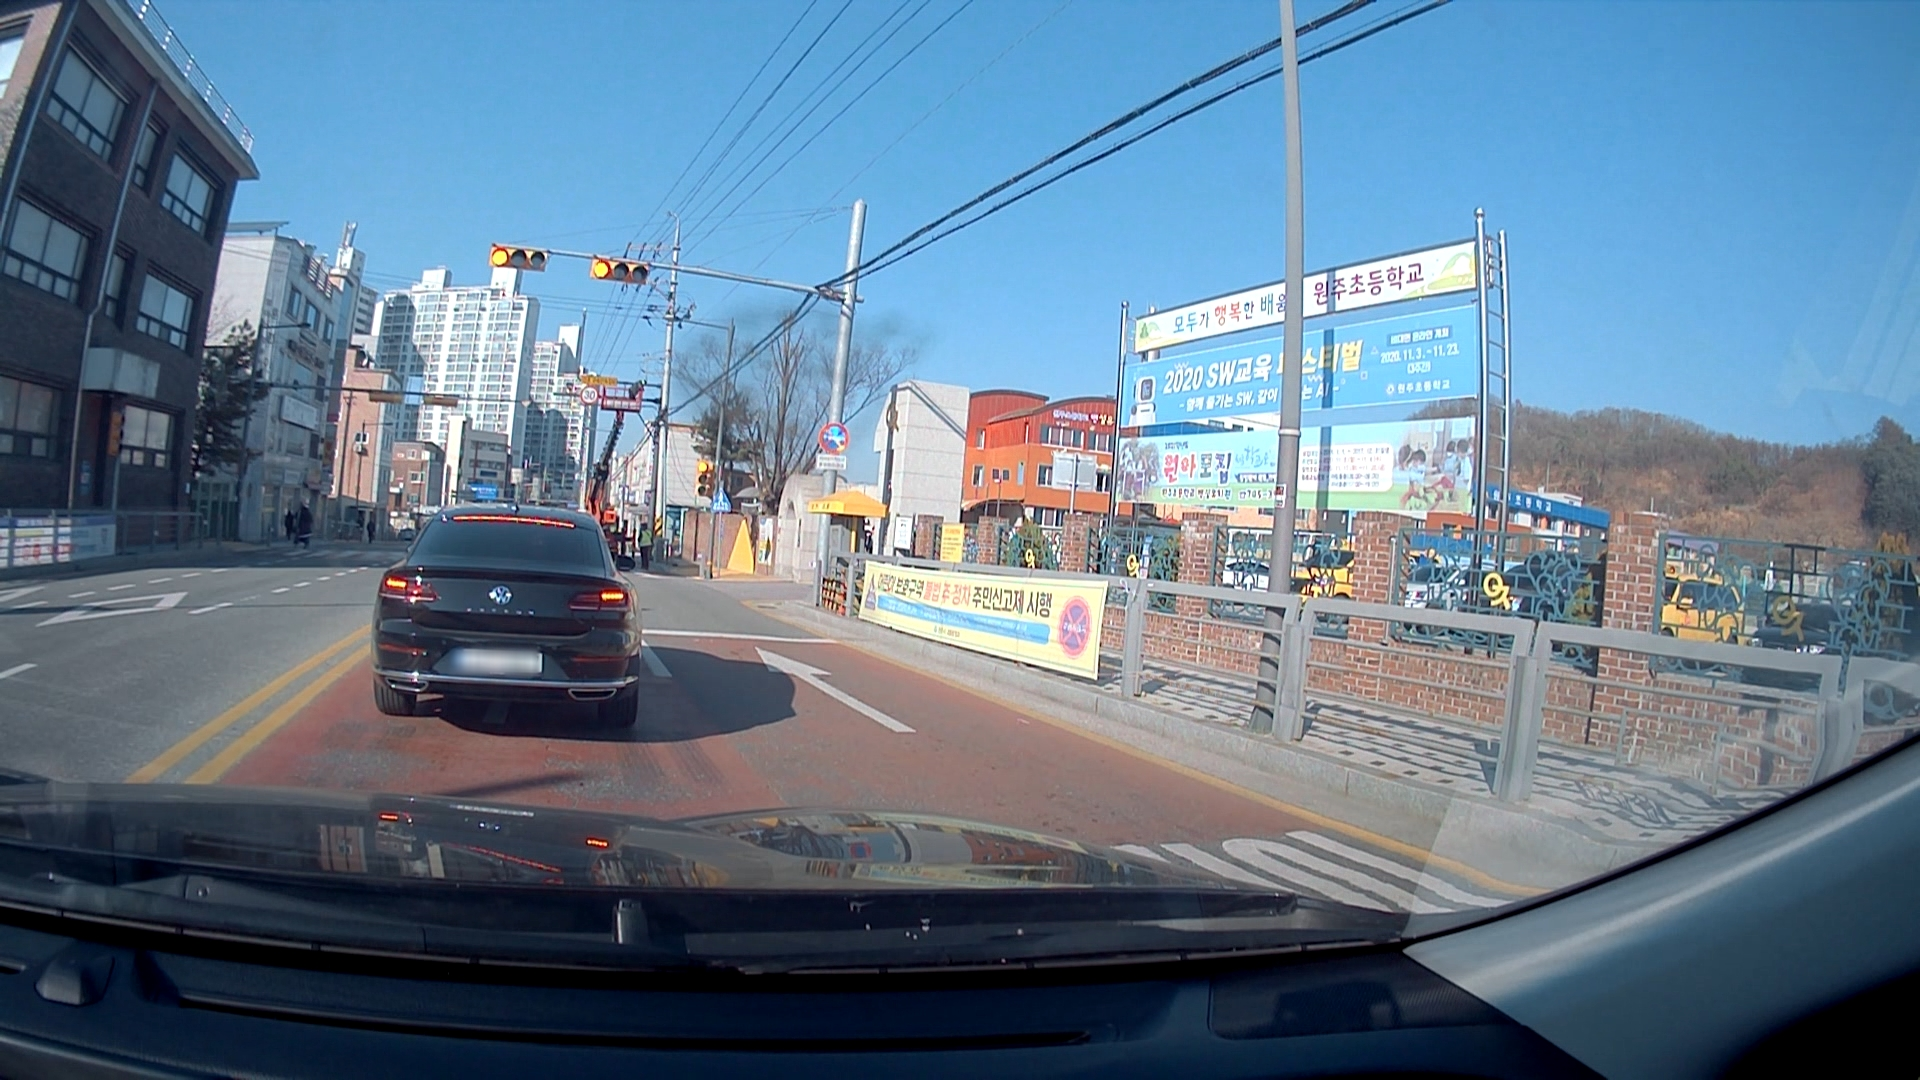trafficLight: (487, 237, 551, 276), (585, 251, 649, 287)
trafficSignCircle: (818, 419, 849, 455), (575, 384, 599, 409)
